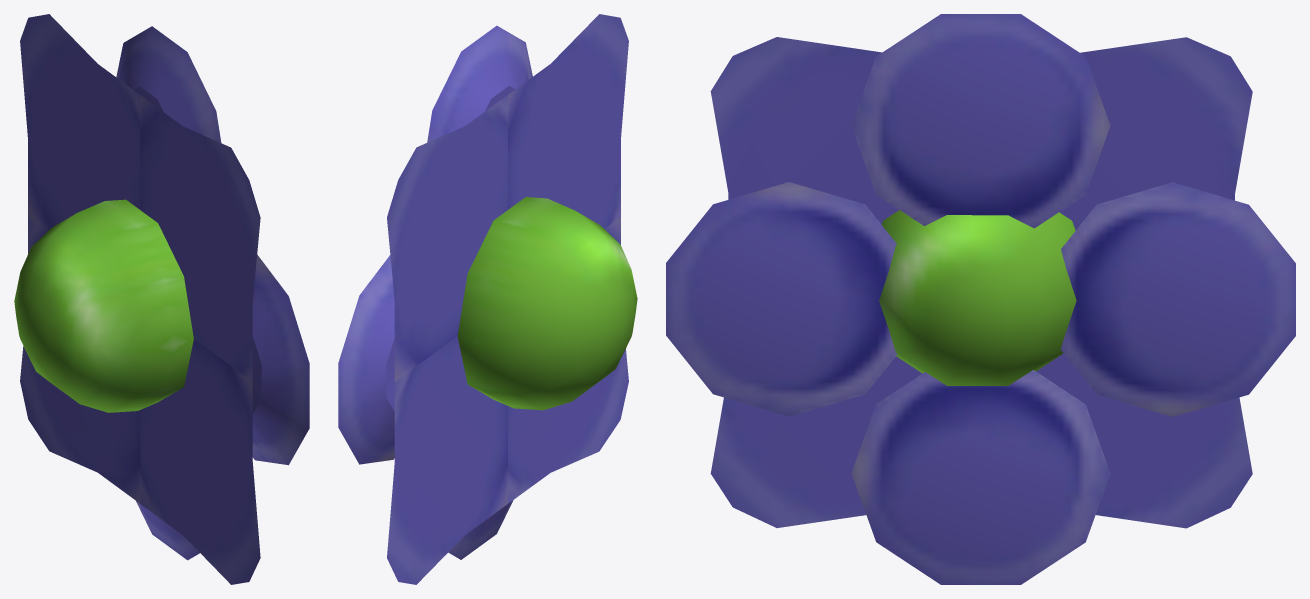
File: GreenHillPFlowerTop.obj
3 views of the same model, side by side, from view 1: azimuth 30°, elevation 25°; view 2: azimuth 150°, elevation 25°; view 3: azimuth 270°, elevation 25° (orthographic). The views are drawn at different scales.
Bounding box in the file's own units: 2.79 × 7.28 × 7.28.
